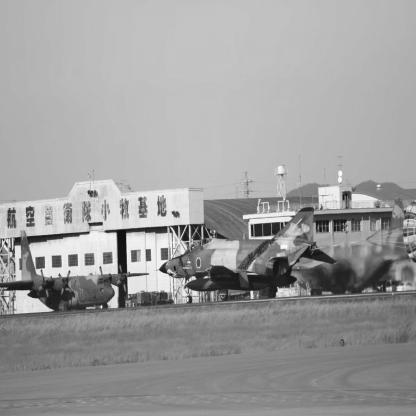C130: (1, 230, 151, 312), (291, 198, 412, 296)
F4: (154, 208, 339, 304)
